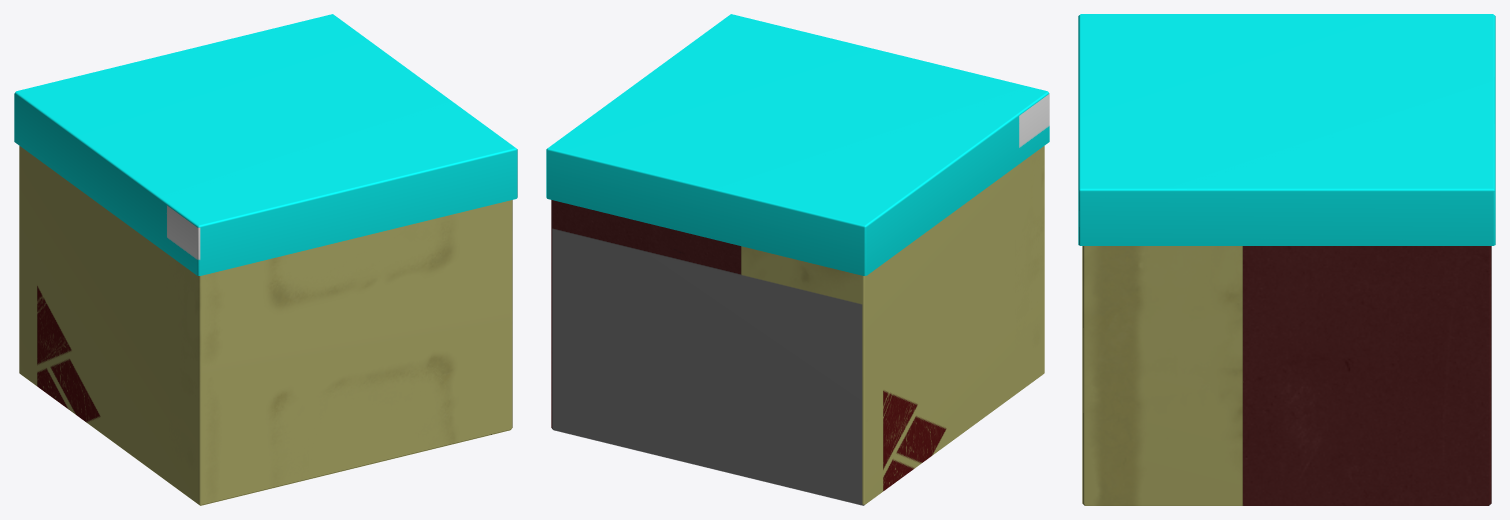
File: giftbox-own.fbx
3 renders of one model, left to right at view 1: azimuth 30°, elevation 25°; view 2: azimuth 150°, elevation 25°; view 3: azimuth 270°, elevation 25°, orthographic. The views are drawn at different scales.
Parts seen in each view (by area): view 1: SK_GiftBox.002, SK_GiftBox.001; view 2: SK_GiftBox.002, SK_GiftBox.001; view 3: SK_GiftBox.002, SK_GiftBox.001.
Part boxes in pixels (<box>): SK_GiftBox.002: <box>19,146,512,505</box>; SK_GiftBox.001: <box>14,14,517,275</box>; SK_GiftBox.002: <box>551,146,1044,505</box>; SK_GiftBox.001: <box>546,14,1049,275</box>; SK_GiftBox.002: <box>1082,246,1491,505</box>; SK_GiftBox.001: <box>1078,14,1495,245</box>.
Size of the model in its own units: 187 by 158 by 187.
